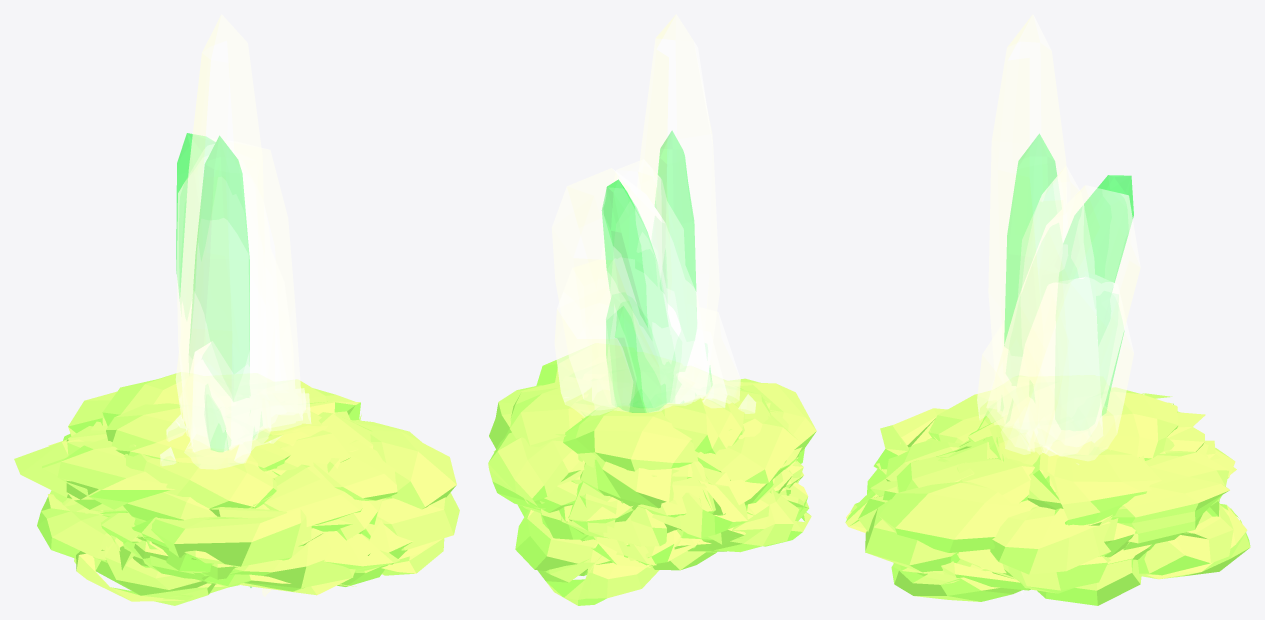
File: XRYSTAL25.gltf
3 views of the same model, side by side, from view 1: azimuth 30°, elevation 25°; view 2: azimuth 150°, elevation 25°; view 3: azimuth 270°, elevation 25° (orthographic). The views are drawn at different scales.
Visible parts, largest first — view 1: Cube.001, Circle.001, Circle; view 2: Cube.001, Circle.001, Circle; view 3: Cube.001, Circle.001, Circle.
Boxes of the visible parts, bbox=[...] form: Cube.001: bbox=[14, 372, 459, 605]; Circle.001: bbox=[160, 14, 311, 596]; Circle: bbox=[176, 133, 251, 587]; Cube.001: bbox=[488, 355, 816, 605]; Circle.001: bbox=[552, 14, 755, 417]; Circle: bbox=[602, 131, 711, 412]; Cube.001: bbox=[845, 387, 1250, 605]; Circle.001: bbox=[977, 14, 1140, 594]; Circle: bbox=[1004, 134, 1133, 415].
Bounding box in the file's own units: 2.91 × 4.72 × 3.08.
